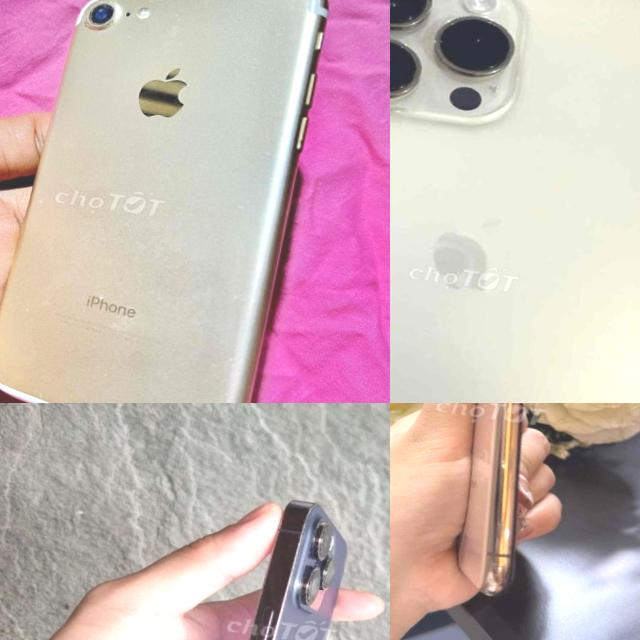physical_damage: (390, 0, 640, 403)
scratch: (67, 0, 128, 34), (476, 560, 518, 602), (14, 294, 67, 322), (136, 0, 190, 23), (263, 15, 297, 48), (209, 350, 245, 380), (154, 23, 182, 57), (214, 288, 262, 306), (492, 453, 522, 478), (220, 193, 259, 212), (258, 126, 278, 160), (31, 387, 56, 403), (283, 0, 306, 13), (27, 194, 46, 208), (92, 294, 109, 302)
